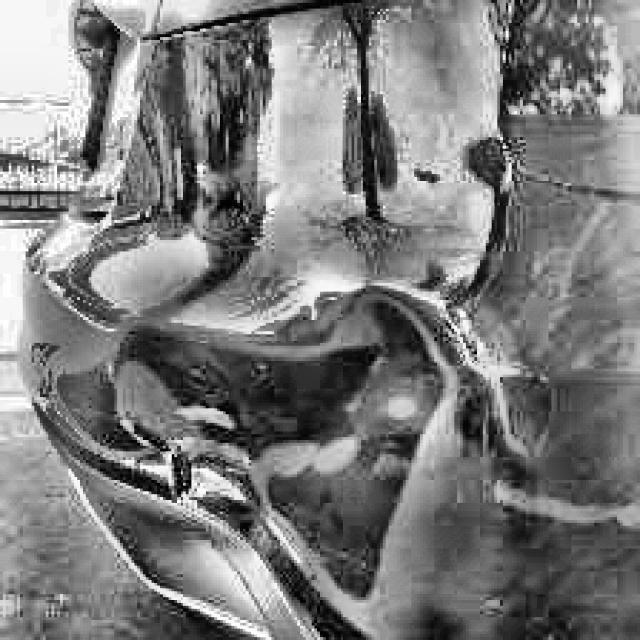bumper_dent: (113, 288, 450, 602)
